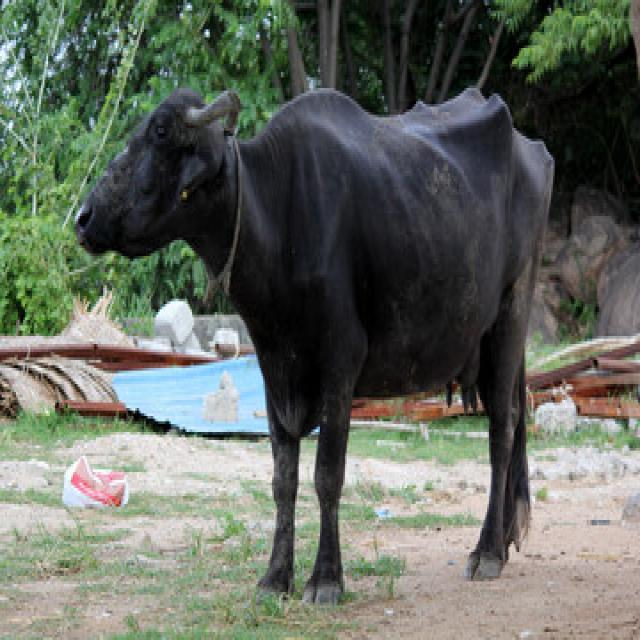Buffalo: (71, 75, 558, 605)
